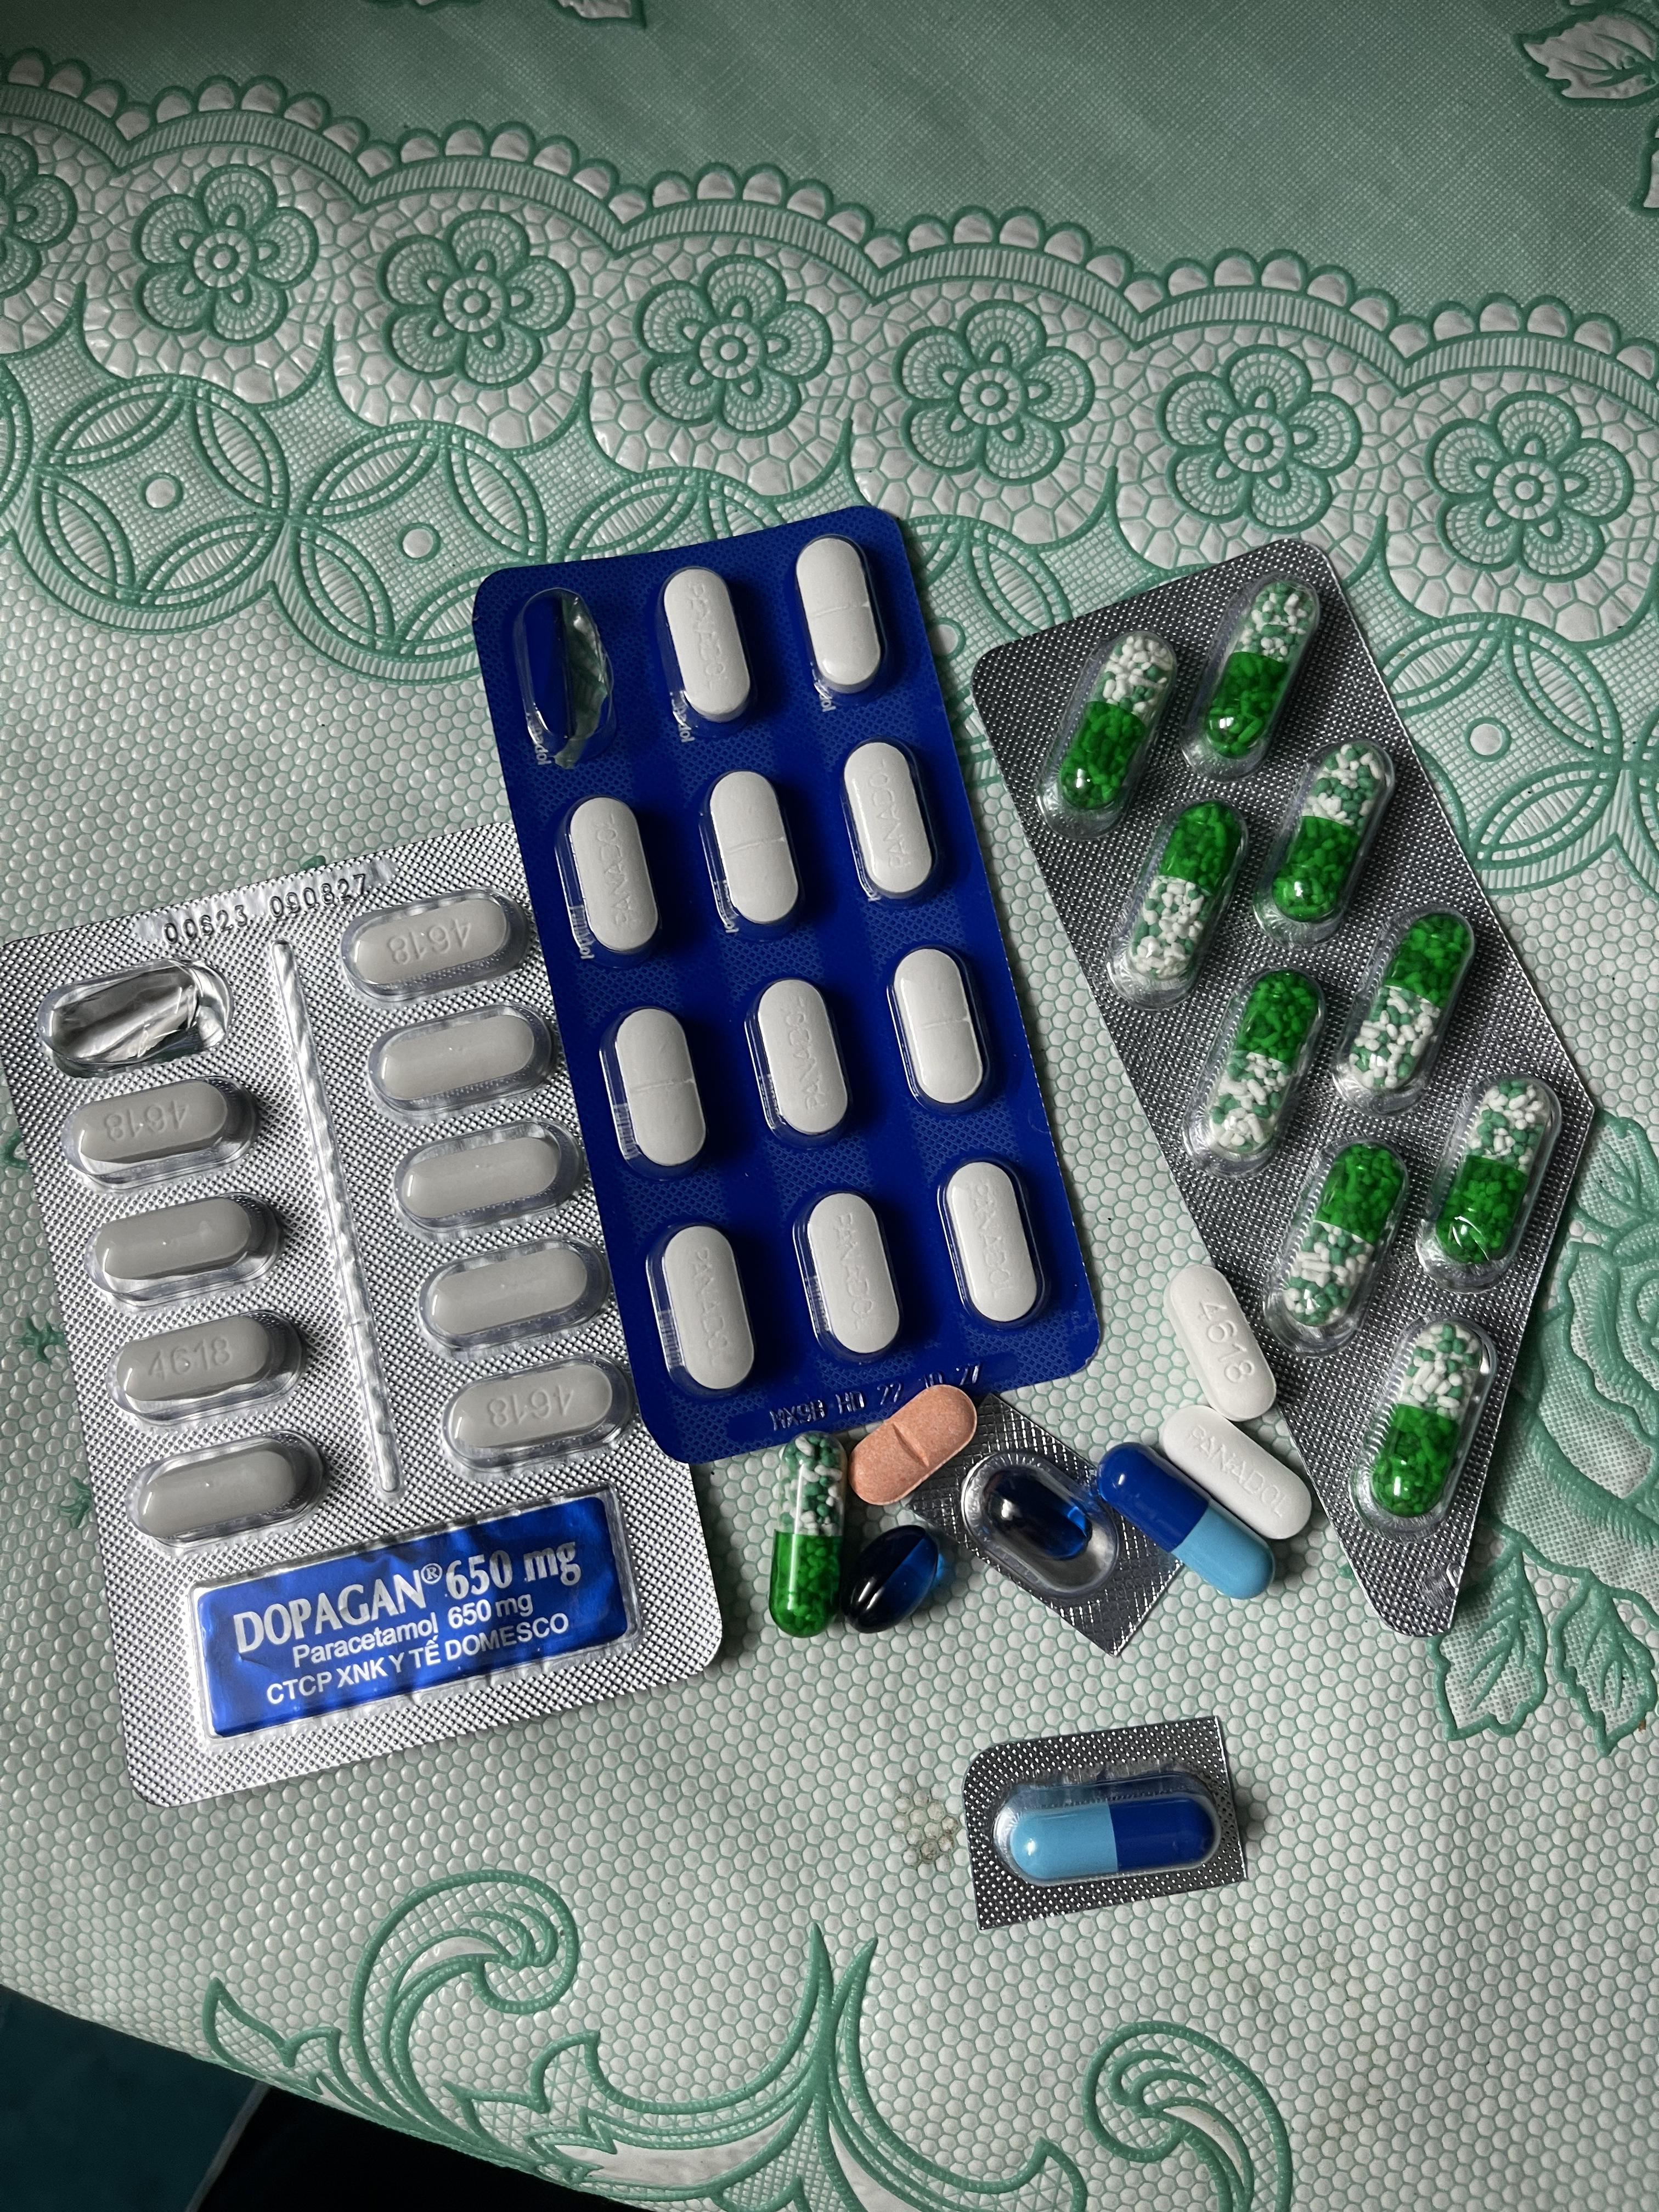Lincomyxin_500mg: (842, 1524, 946, 1634), (990, 1467, 1093, 1557)
Loratadine_10mg: (850, 1381, 978, 1500)
Paracetamol_350mg: (936, 1157, 1049, 1329), (1159, 1407, 1305, 1540), (889, 944, 997, 1115), (748, 975, 854, 1144), (803, 1195, 906, 1364), (610, 1007, 711, 1174), (842, 742, 941, 906), (657, 1226, 756, 1390), (563, 796, 666, 953), (708, 772, 805, 935), (662, 566, 755, 726), (795, 536, 885, 698)
Paracetamol_500mg: (103, 1306, 301, 1425), (437, 1357, 629, 1479), (124, 1426, 326, 1541), (82, 1190, 281, 1306), (416, 1235, 608, 1355), (366, 1000, 552, 1122), (392, 1120, 580, 1238), (63, 1075, 256, 1190), (340, 892, 523, 996), (1162, 1264, 1281, 1418)
Paracetamol_650mg: (1255, 742, 1399, 951), (1338, 911, 1481, 1109), (1277, 1146, 1405, 1332), (1364, 1318, 1485, 1515), (1431, 1085, 1553, 1268), (1201, 580, 1321, 763), (1204, 975, 1321, 1158), (1054, 631, 1171, 813), (1129, 805, 1243, 989), (769, 1435, 845, 1639)
pill: (1098, 1440, 1276, 1601), (995, 1780, 1215, 1886)
